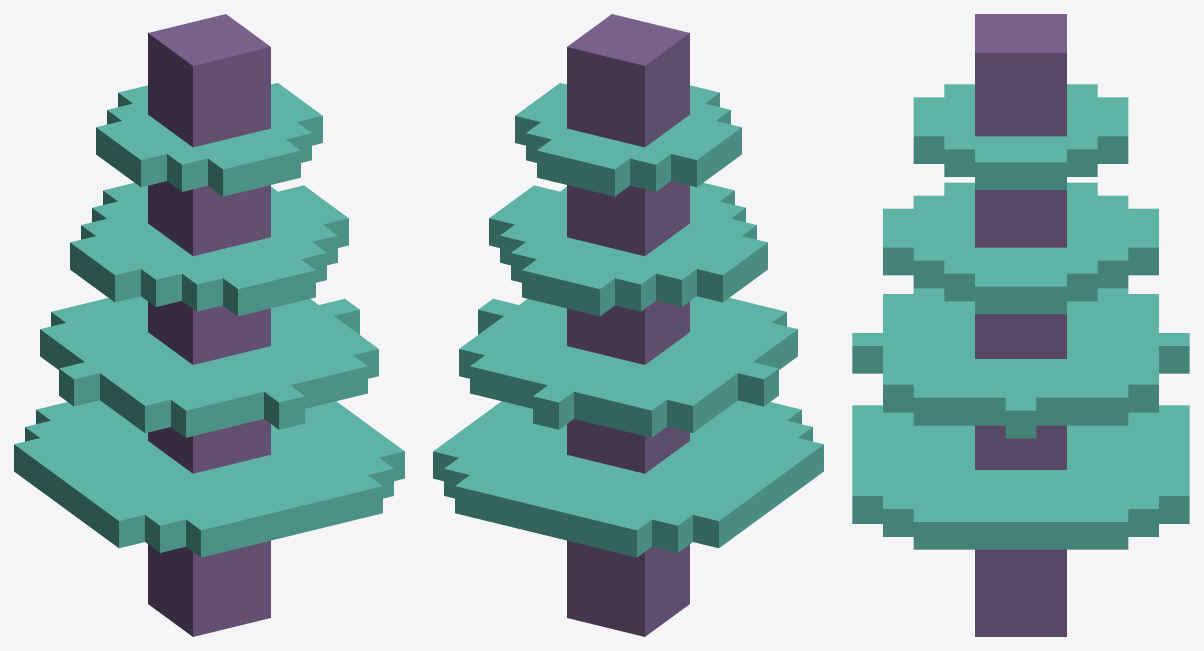
The model's file is alien-biosphere-shelf-tree-301f6fea__22676.glb.
The picture shows the model from 3 angles, left to right: view 1: azimuth 30°, elevation 25°; view 2: azimuth 150°, elevation 25°; view 3: azimuth 270°, elevation 25°; orthographic projection. The views are drawn at different scales.
Parts seen in each view (by area): view 1: shelf-tree; view 2: shelf-tree; view 3: shelf-tree.
Boxes of the visible parts, x1,y1,x2,y2 form: shelf-tree: (14,14,404,636); shelf-tree: (433,14,823,636); shelf-tree: (852,14,1189,636).
Size of the model in its own units: 2.2 by 4.2 by 2.2.
